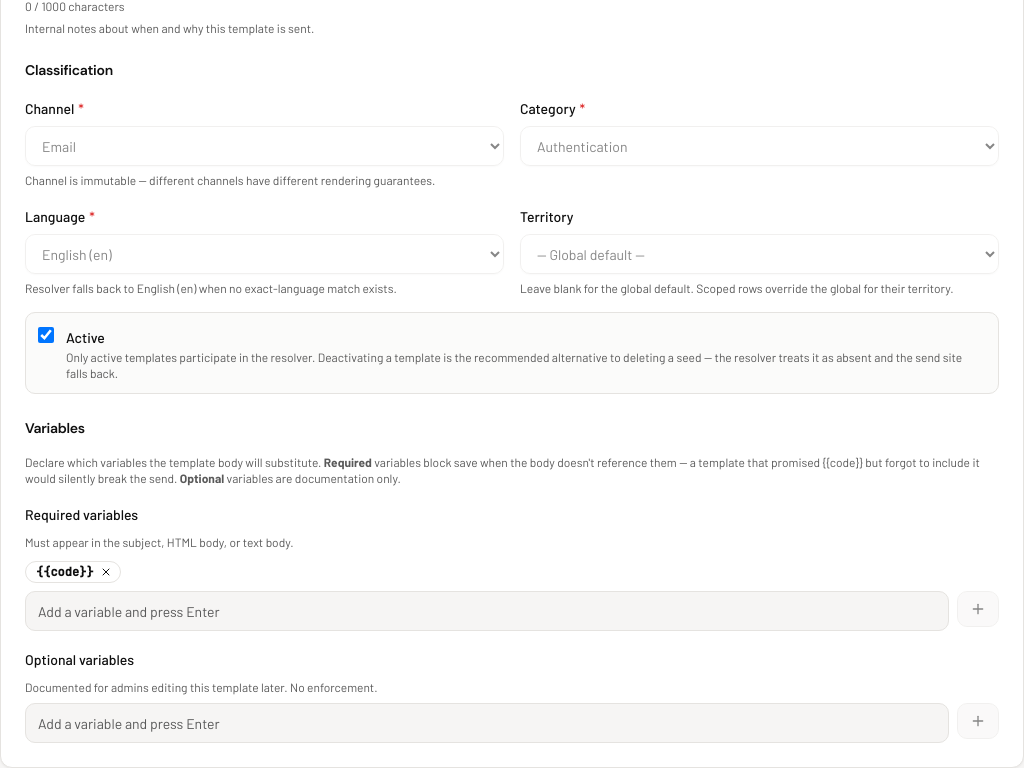
Test: seed template › keeps display name, description, active toggle, and variables editable on a seed
(page scrolled)
Expected: the checkbox labelled "Active" is enabled, [38,327,54,343]
Step 1. Type "signup_link" into the field with placeholder "Add a variable and press Enter" → {"x": 487, "y": 611}, box [25,591,949,631]
Then press Enter
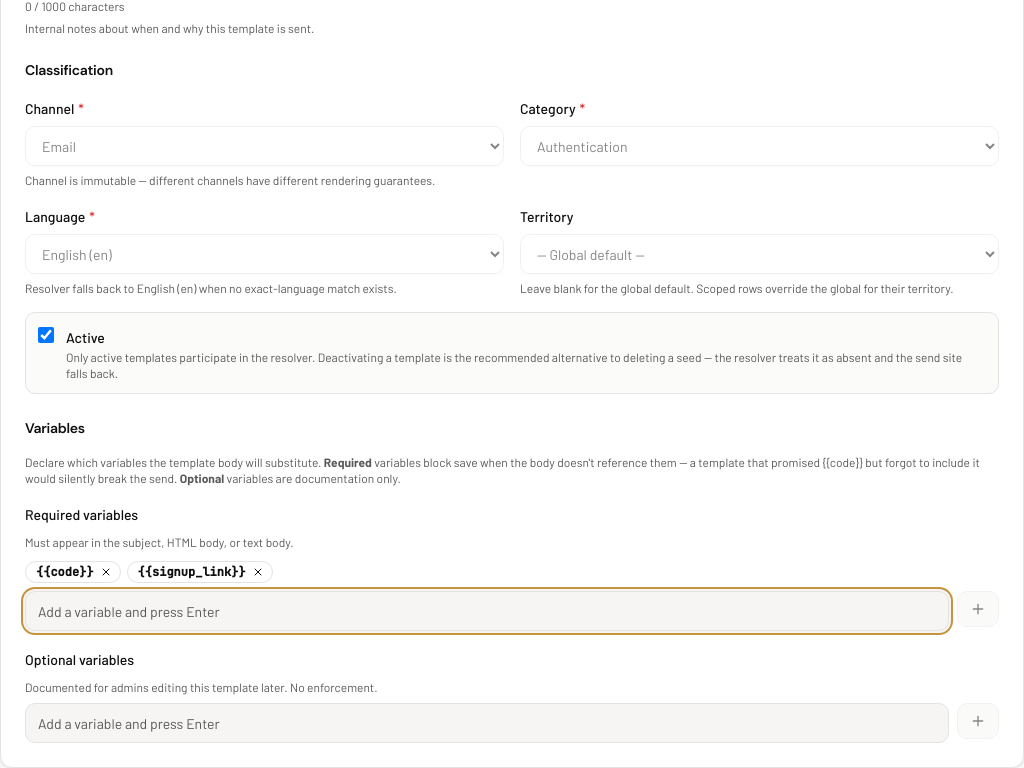
Expected: the text "{{signup_link}}" is shown, [127,561,273,583]
